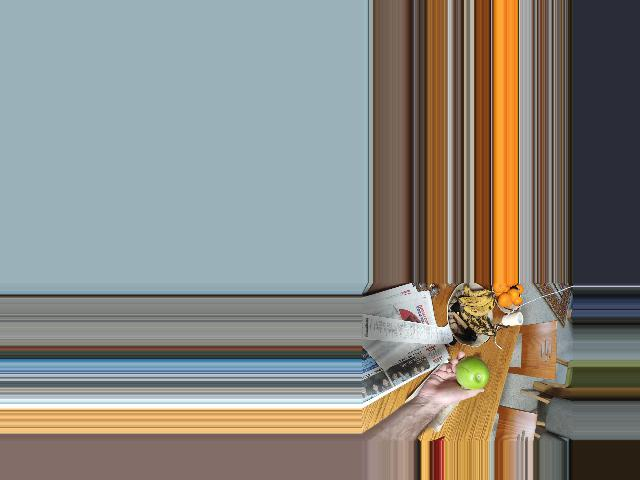apple: (453, 356, 489, 389)
